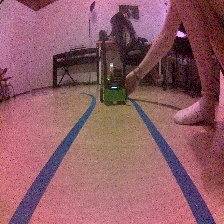rob: (98, 61, 128, 106)
